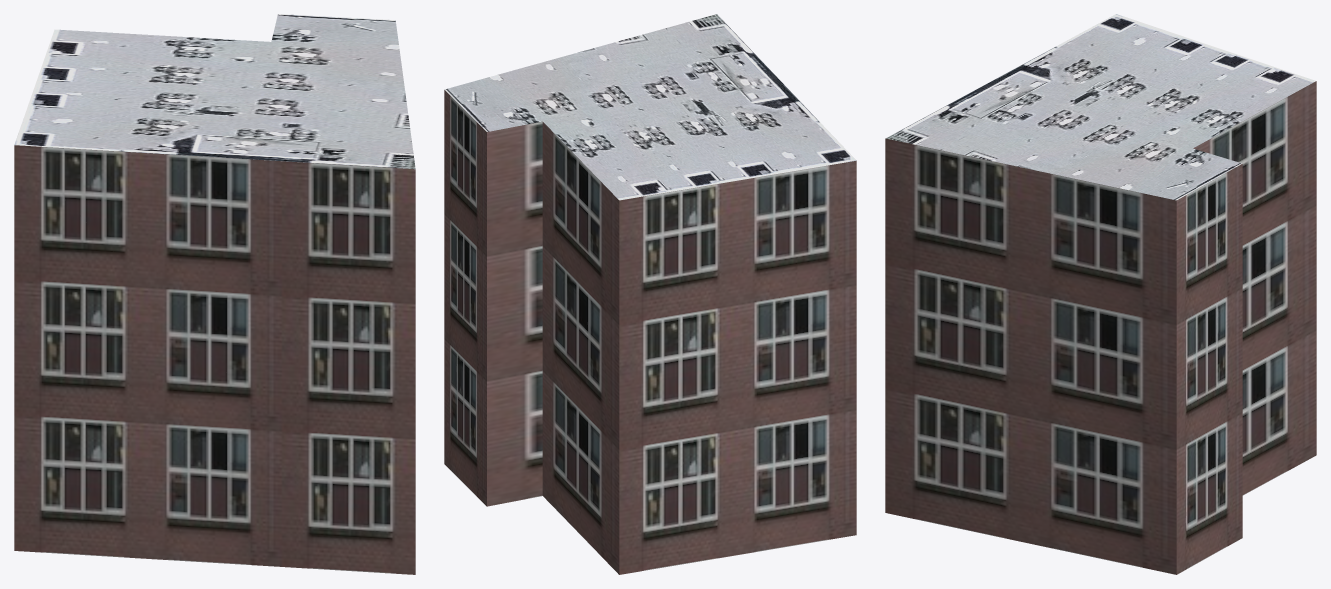
Rendered from ResTex__3929.fbx.
3 renders of one model, left to right at view 1: azimuth 30°, elevation 25°; view 2: azimuth 150°, elevation 25°; view 3: azimuth 270°, elevation 25°, orthographic. The views are drawn at different scales.
Visible parts, largest first — view 1: CityEngineMaterial_12_m, CityEngineMaterial_4_m; view 2: CityEngineMaterial_12_m, CityEngineMaterial_4_m; view 3: CityEngineMaterial_12_m, CityEngineMaterial_4_m.
Part boxes in pixels (left/top/right/bottom): CityEngineMaterial_12_m: left=14, top=145, right=415, bottom=574; CityEngineMaterial_4_m: left=14, top=14, right=415, bottom=169; CityEngineMaterial_12_m: left=444, top=90, right=856, bottom=574; CityEngineMaterial_4_m: left=444, top=14, right=856, bottom=200; CityEngineMaterial_12_m: left=885, top=81, right=1316, bottom=574; CityEngineMaterial_4_m: left=886, top=14, right=1315, bottom=200.
Size of the model in its own units: 9.61 by 9 by 9.39.
Materials: 2 (2 with a texture image).
